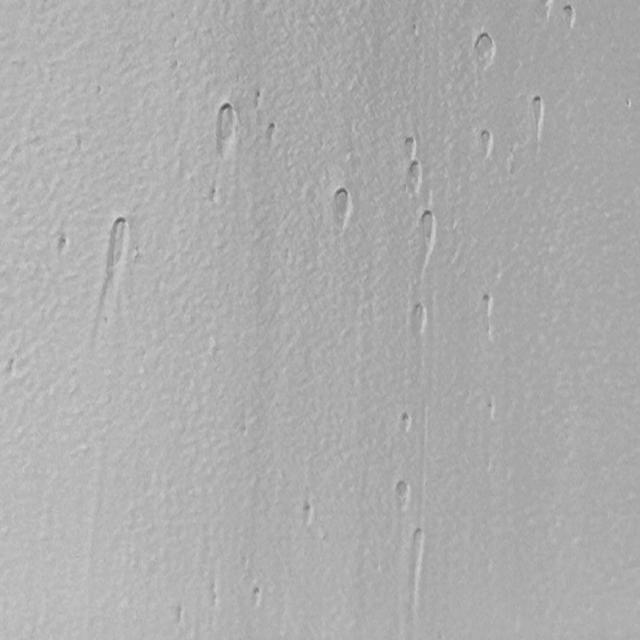pin holes: (210, 104, 240, 154), (410, 529, 426, 610), (107, 216, 127, 270), (329, 185, 353, 228), (471, 32, 497, 68), (415, 209, 438, 249), (528, 96, 549, 132), (390, 478, 412, 512), (408, 303, 430, 336), (475, 128, 495, 158), (561, 1, 580, 30), (406, 158, 423, 190), (478, 291, 497, 316), (536, 2, 554, 27), (396, 412, 414, 436), (481, 396, 498, 421), (401, 135, 419, 158), (300, 500, 316, 525), (55, 233, 70, 258), (207, 185, 224, 207), (251, 584, 265, 606), (266, 122, 279, 142), (253, 89, 265, 108), (623, 96, 634, 112)
